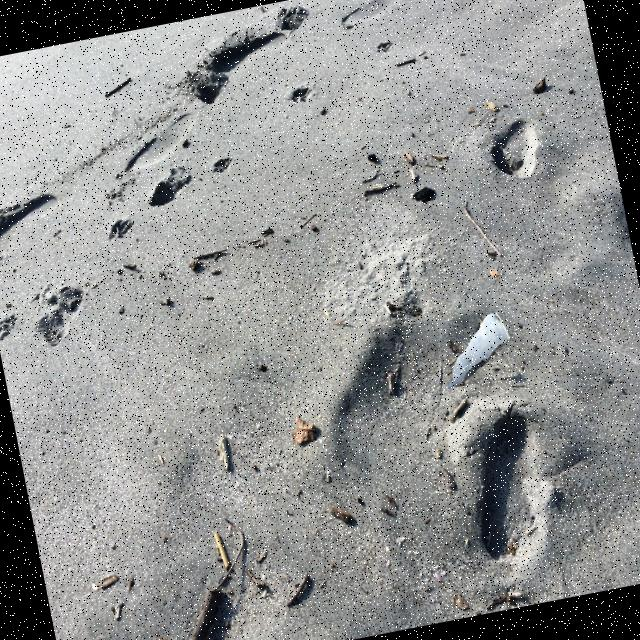Other plastic bottle: (450, 313, 510, 387), (491, 270, 498, 276)
